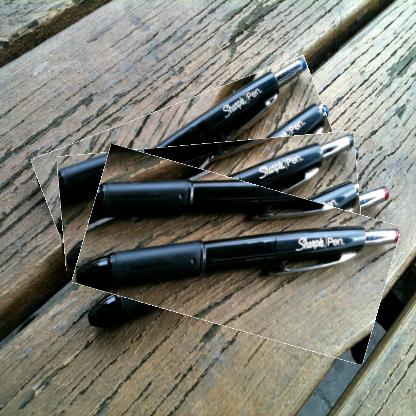Pen: (79, 164, 395, 346), (34, 80, 332, 215), (59, 138, 361, 266)
